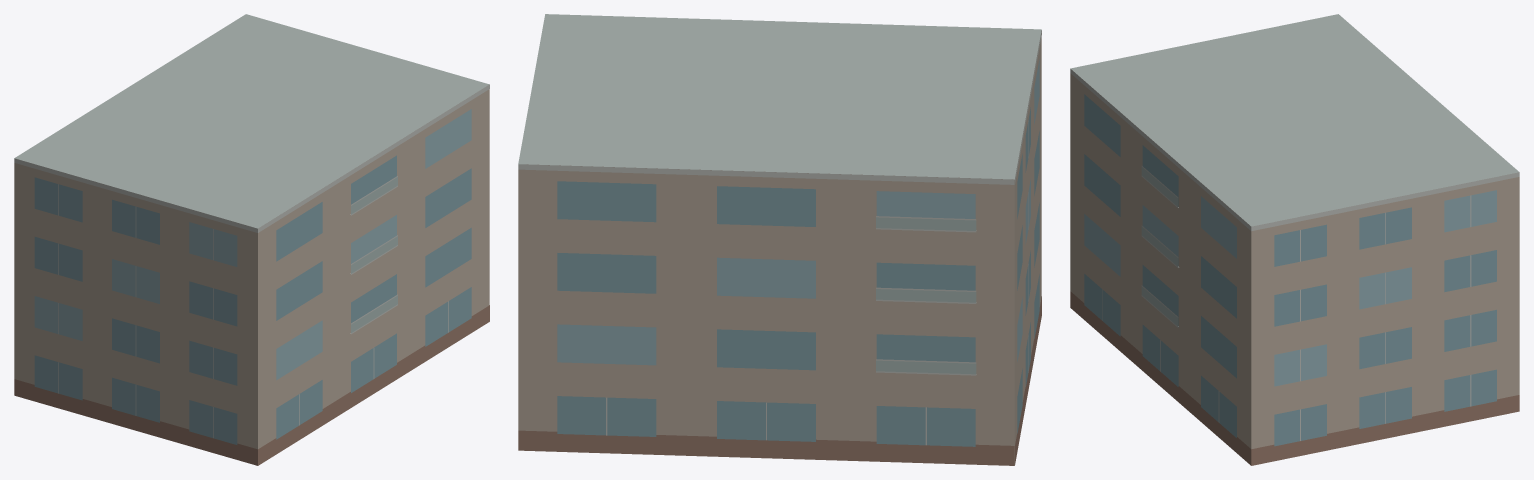
The model's file is survey-upis-32828641.glb.
3 views of the same model, side by side, from view 1: azimuth 30°, elevation 25°; view 2: azimuth 150°, elevation 25°; view 3: azimuth 270°, elevation 25° (orthographic). The views are drawn at different scales.
Visible parts, largest first — view 1: survey-upis-32828641.tmp; view 2: survey-upis-32828641.tmp; view 3: survey-upis-32828641.tmp.
Part boxes in pixels (x1=…): survey-upis-32828641.tmp: x1=14, y1=14, x2=489, y2=465; survey-upis-32828641.tmp: x1=518, y1=14, x2=1041, y2=465; survey-upis-32828641.tmp: x1=1070, y1=14, x2=1519, y2=465.
Bounding box in the file's own units: 24.41 × 12.8 × 21.8.
